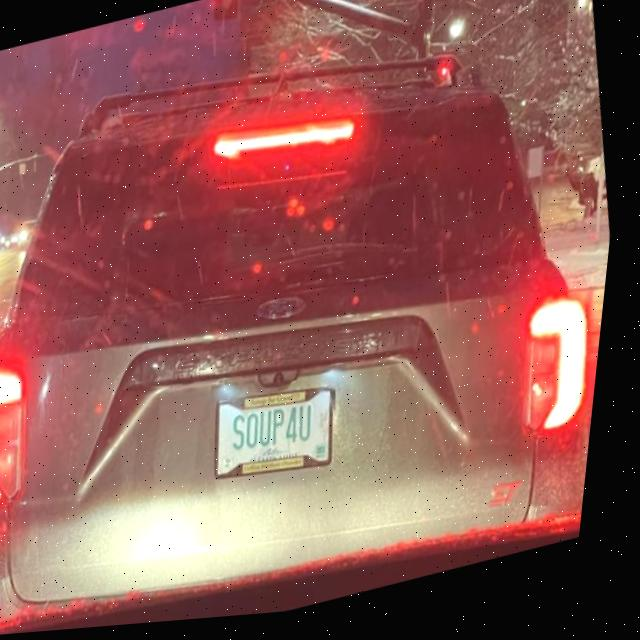LicensePlate: (226, 393, 343, 485)
